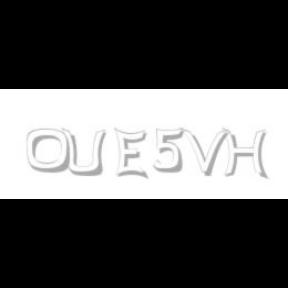5: (153, 128, 184, 174)
E: (114, 128, 148, 180)
H: (222, 128, 268, 180)
O: (26, 128, 72, 174)
U: (60, 128, 106, 178)
V: (181, 128, 229, 176)
